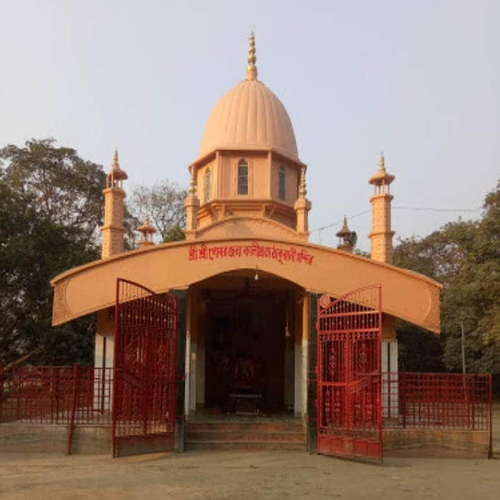Temple: (36, 27, 443, 443)
